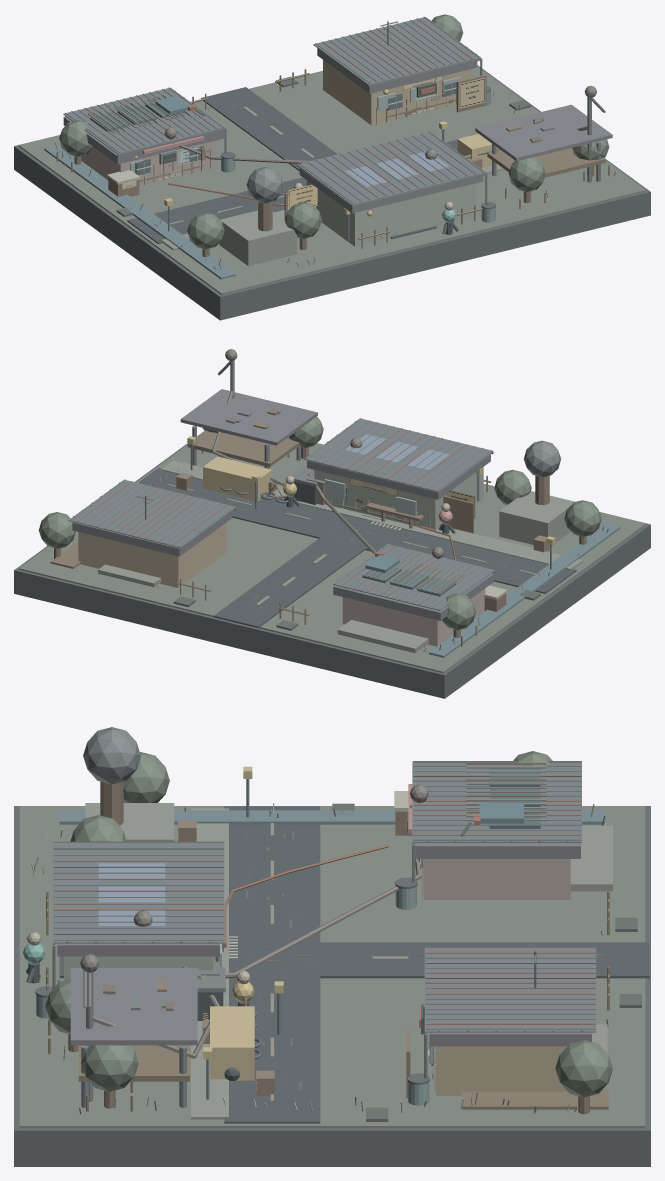
Rendered from yudae_intro_detailed.glb.
The picture shows the model from 3 angles, top to bottom: view 1: azimuth 30°, elevation 25°; view 2: azimuth 150°, elevation 25°; view 3: azimuth 270°, elevation 25°; orthographic projection. The views are drawn at different scales.
Parts seen in each view (by area): view 1: world; view 2: world; view 3: world.
Boxes of the visible parts, x1,y1,x2,y2 form: world: (14, 14, 650, 320); world: (14, 349, 650, 698); world: (14, 727, 650, 1166).
Size of the model in its own units: 3.45 by 0.918 by 2.86.
Materials: 9 (9 with a texture image).
